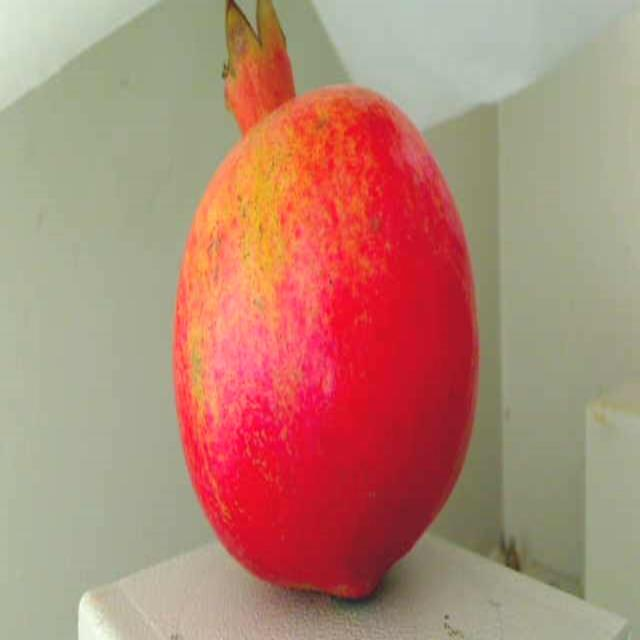pomegranate: (164, 0, 491, 608)
